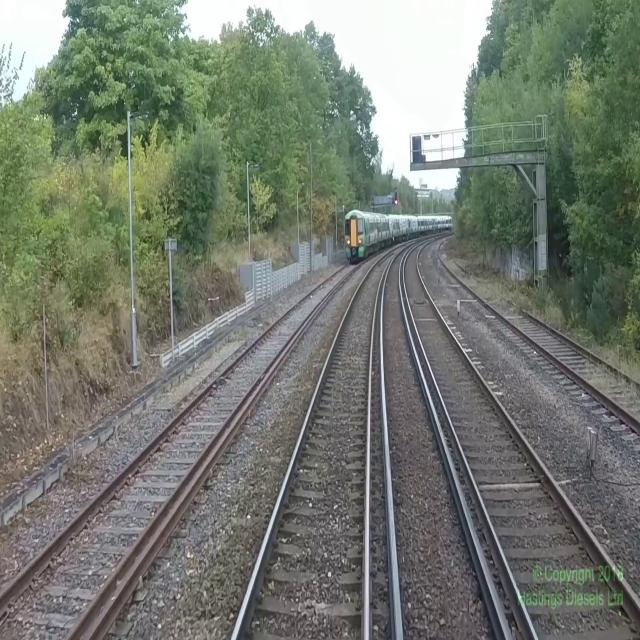rail-track: (0, 264, 354, 639), (418, 238, 640, 600), (236, 242, 410, 639)
